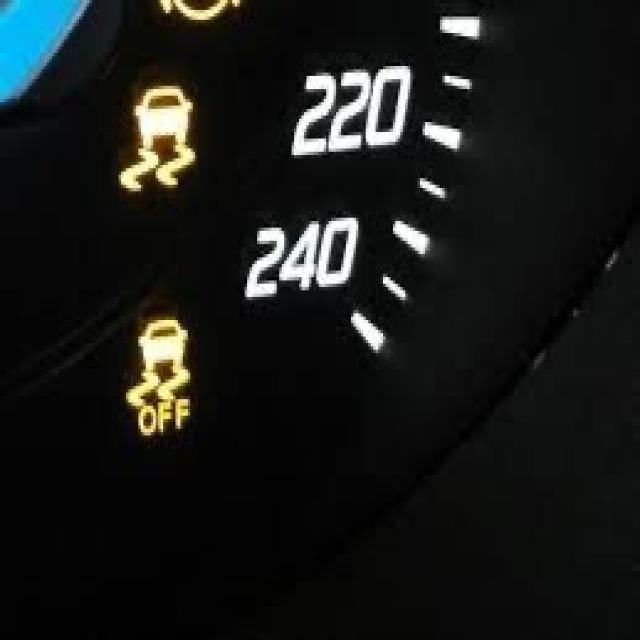kontrolka: (110, 77, 218, 201), (124, 310, 198, 438)
